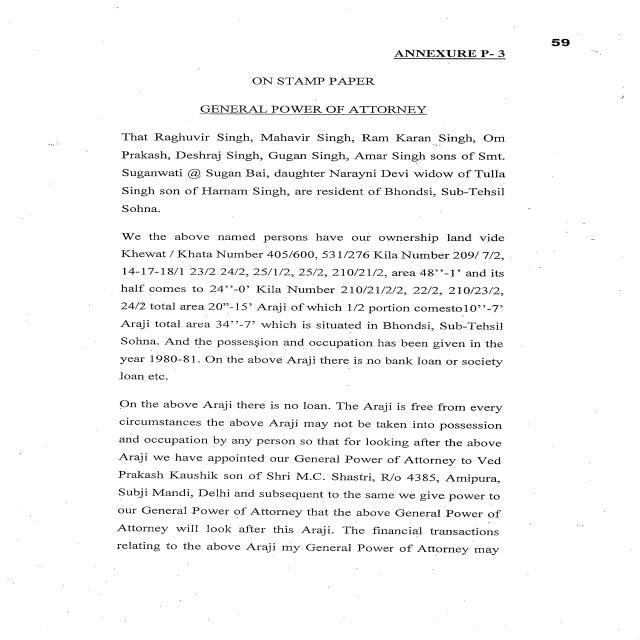page-number: (510, 4, 637, 157)
